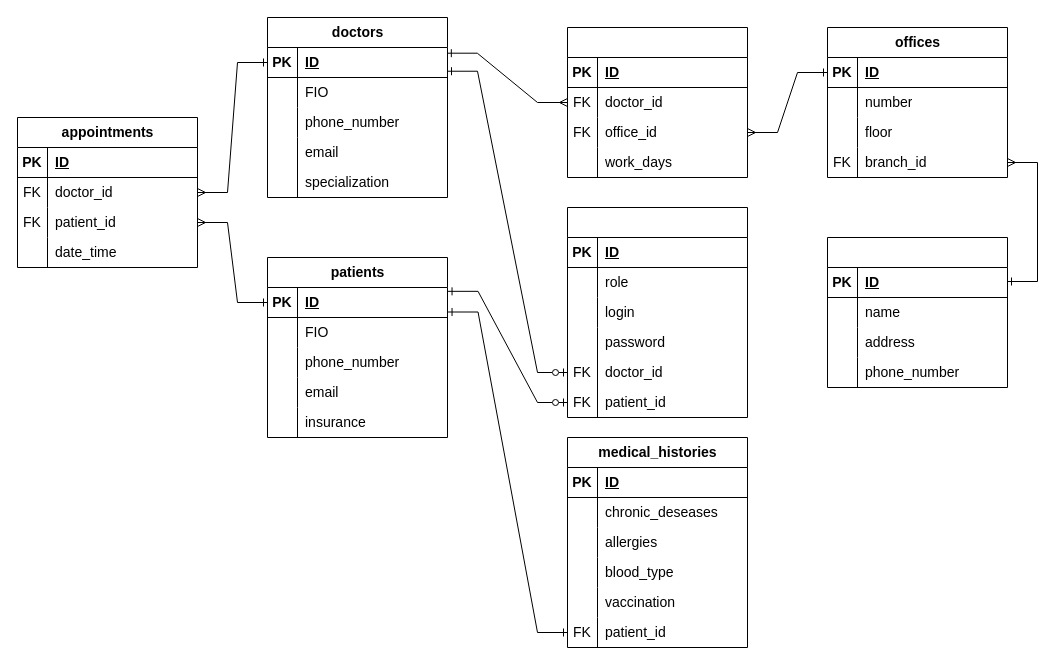
Image size: 1064x665. Some labels were removed from this diagram. The box of each missing label's shape, as (x1, y1, x2, y2) in pixels:
branches: (826, 236, 1008, 388)
timetable: (566, 26, 748, 178)
users: (566, 206, 748, 418)
